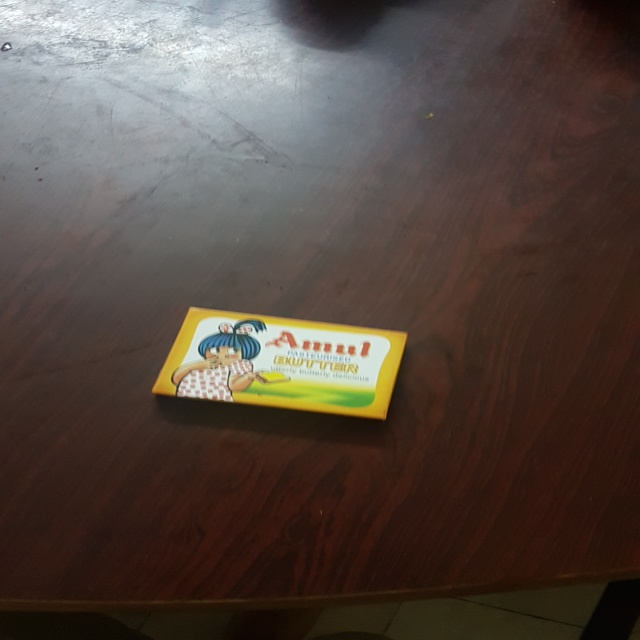butter: (151, 308, 407, 423)
